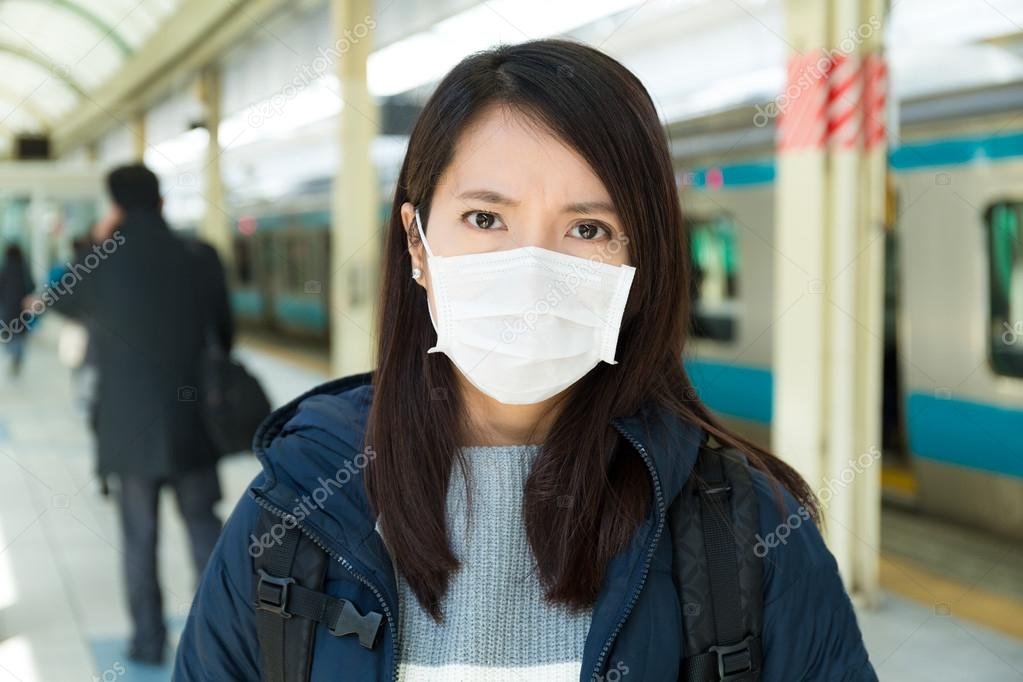surgical: (417, 235, 640, 409)
